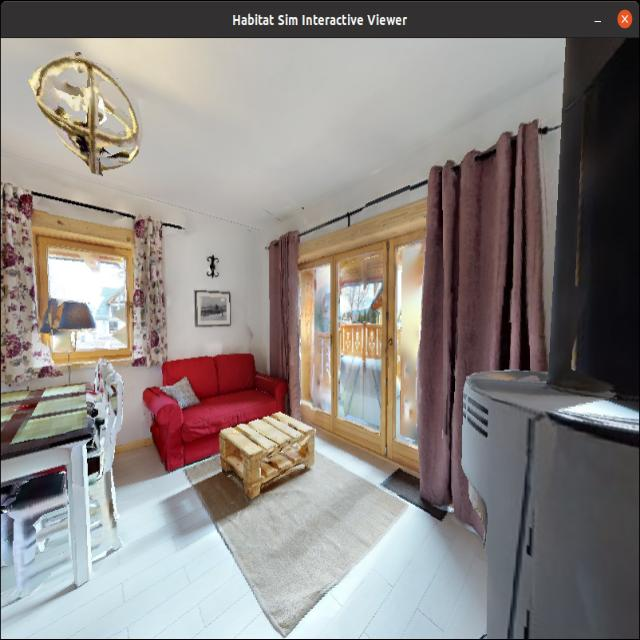sofa: (141, 353, 304, 476)
table: (0, 349, 118, 629)
